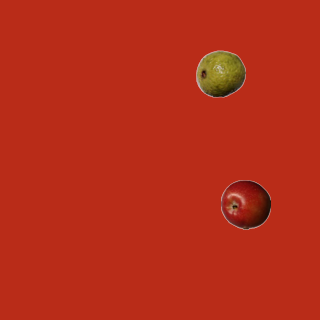Apple Braeburn: (220, 179, 270, 229)
Guava: (195, 48, 245, 98)
